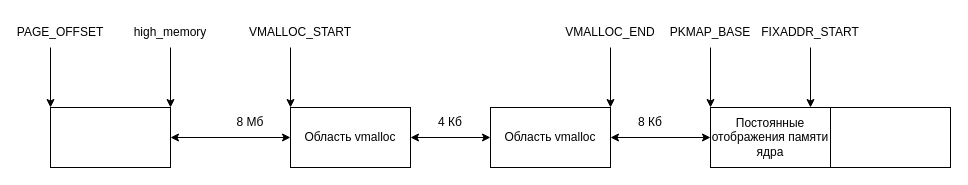
Some shapes in this 968 by 185 pixel diagram are drawn without their labels. The shapes that lost their labels are listed below. From the top down, each one's centre as x and y in pixels, then its label:
At pixel 110 137: "Отображение физической памяти".
At pixel 890 137: "Фиксированно отображенные линейные адреса".
